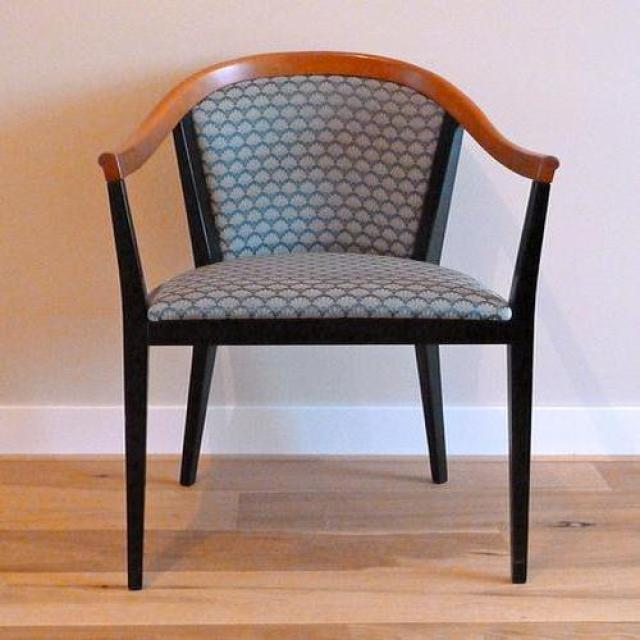chair: (96, 52, 558, 594)
